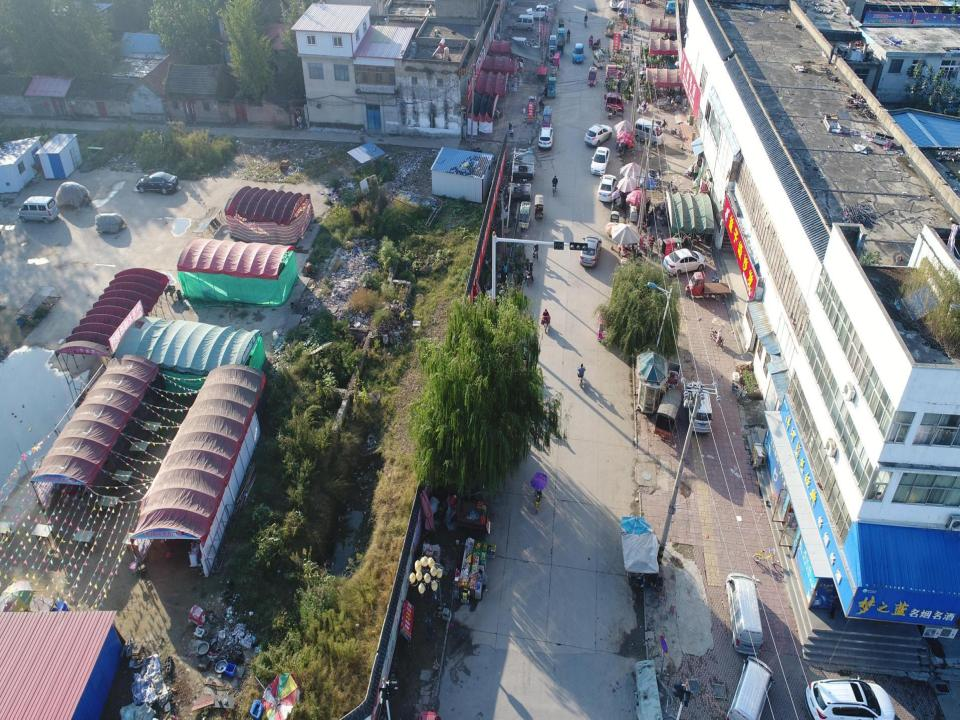car: (801, 672, 897, 720), (686, 380, 714, 434), (662, 247, 708, 276), (133, 168, 179, 196), (584, 119, 612, 147), (579, 235, 601, 267), (589, 146, 610, 177), (597, 172, 617, 203), (507, 34, 529, 60), (539, 126, 554, 150), (664, 1, 687, 16), (572, 41, 585, 65)
van: (722, 568, 765, 656), (725, 656, 777, 720), (16, 197, 60, 224), (634, 117, 665, 147), (511, 12, 535, 34), (526, 3, 550, 21)
